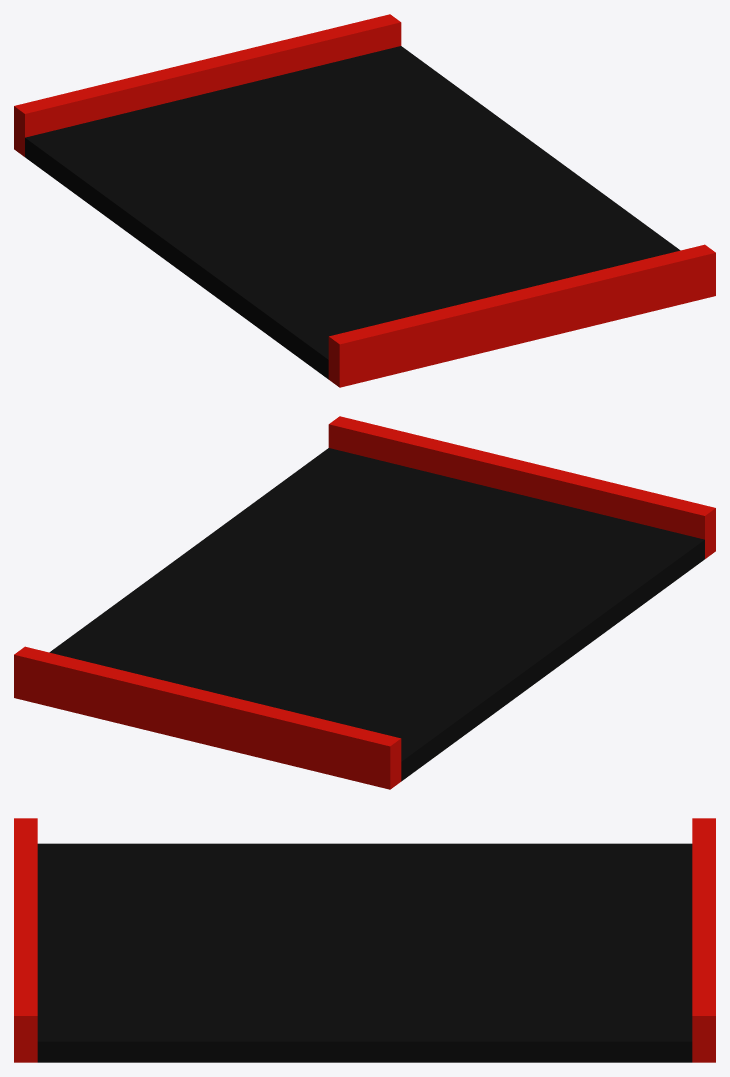
File: Straight_01.fbx
The picture shows the model from 3 angles, top to bottom: view 1: azimuth 30°, elevation 25°; view 2: azimuth 150°, elevation 25°; view 3: azimuth 270°, elevation 25°; orthographic projection. The views are drawn at different scales.
Visible parts, largest first — view 1: Straight_01; view 2: Straight_01; view 3: Straight_01.
Boxes of the visible parts, x1,y1,x2,y2 form: Straight_01: (14, 14, 715, 387); Straight_01: (14, 416, 715, 789); Straight_01: (14, 818, 715, 1062).
Bounding box in the file's own units: 39.37 × 4.33 × 59.06.
